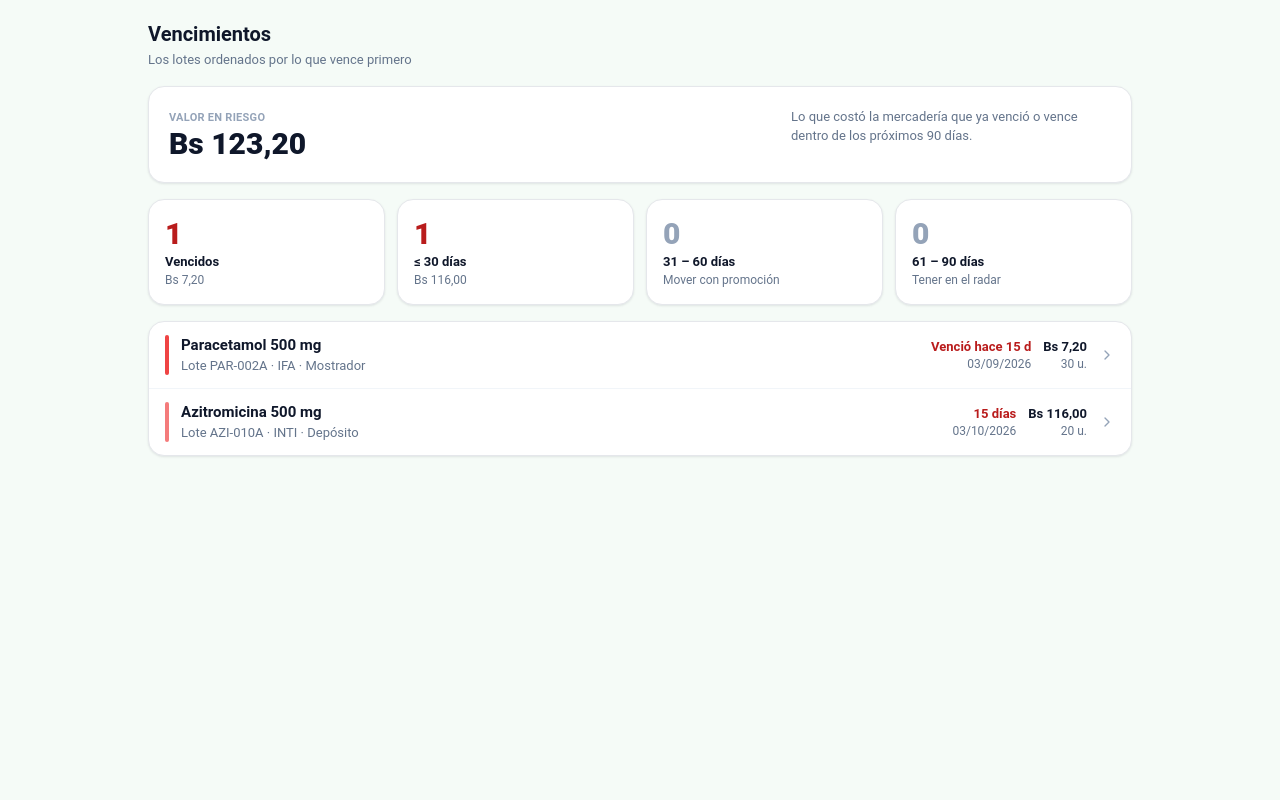
Vencimientos › tocar un lote abre su detalle con lo que hace falta para decidir
What coordinates should you click on to do the following:
click the text "Paracetamol 500 mg"
I would click on:
 (251, 344)
Its box is [181,336,321,354].
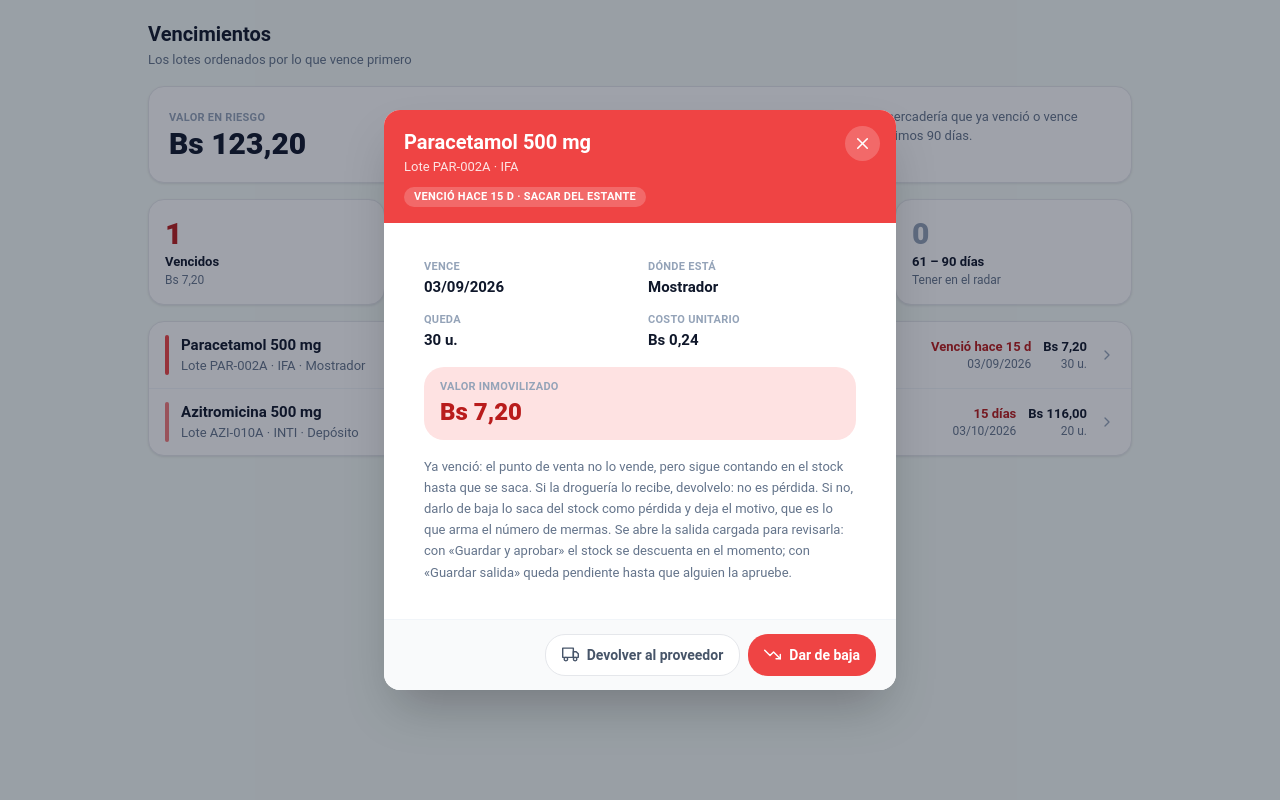
Check: the dialog shows "Lote PAR-002A", box [384,110,896,690]
Check: the dialog shows "IFA", box [491,159,519,174]
Check: the dialog shows "Mostrador", box [648,278,718,296]
